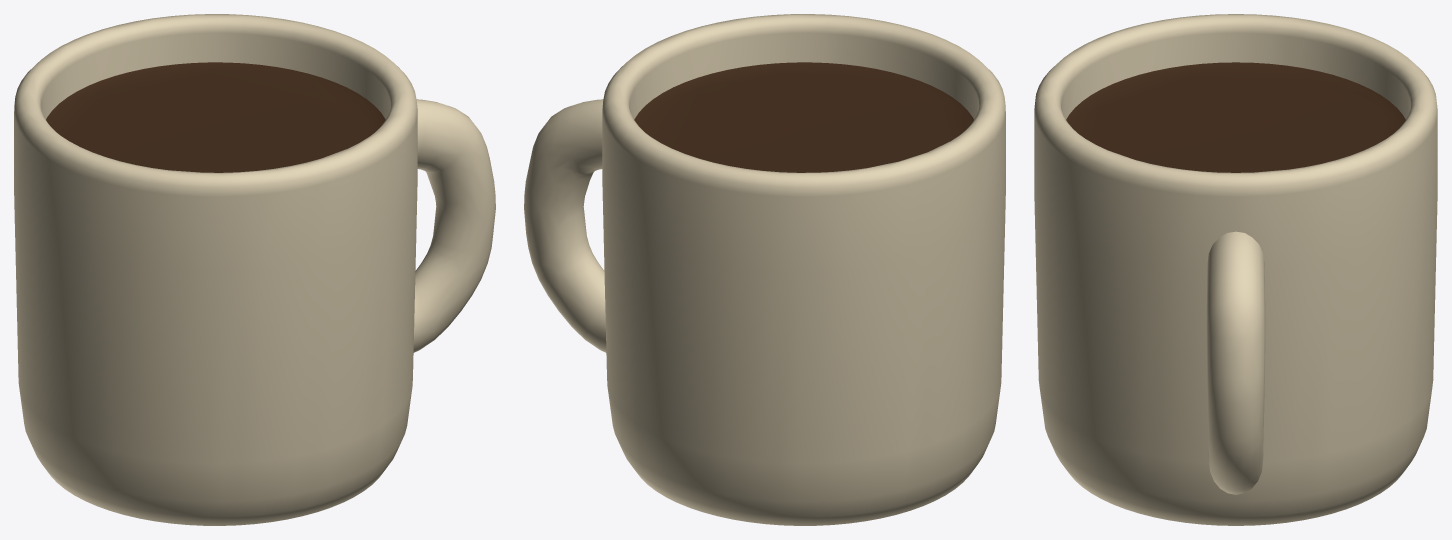
File: mug.glb
3 views of the same model, side by side, from view 1: azimuth 30°, elevation 25°; view 2: azimuth 150°, elevation 25°; view 3: azimuth 270°, elevation 25° (orthographic).
Visible parts, largest first — view 1: Mug hollow ceramic body__asset.001, Coffee with meniscus__asset.001; view 2: Mug hollow ceramic body__asset.001, Coffee with meniscus__asset.001; view 3: Mug hollow ceramic body__asset.001, Coffee with meniscus__asset.001.
Boxes of the visible parts, x1=… form: Mug hollow ceramic body__asset.001: x1=14, y1=14, x2=495, y2=525; Coffee with meniscus__asset.001: x1=46, y1=62, x2=385, y2=172; Mug hollow ceramic body__asset.001: x1=524, y1=14, x2=1005, y2=525; Coffee with meniscus__asset.001: x1=634, y1=62, x2=973, y2=172; Mug hollow ceramic body__asset.001: x1=1034, y1=14, x2=1437, y2=525; Coffee with meniscus__asset.001: x1=1066, y1=62, x2=1405, y2=172.
Size of the model in its own units: 0.1194 by 0.0918 by 0.0924.
